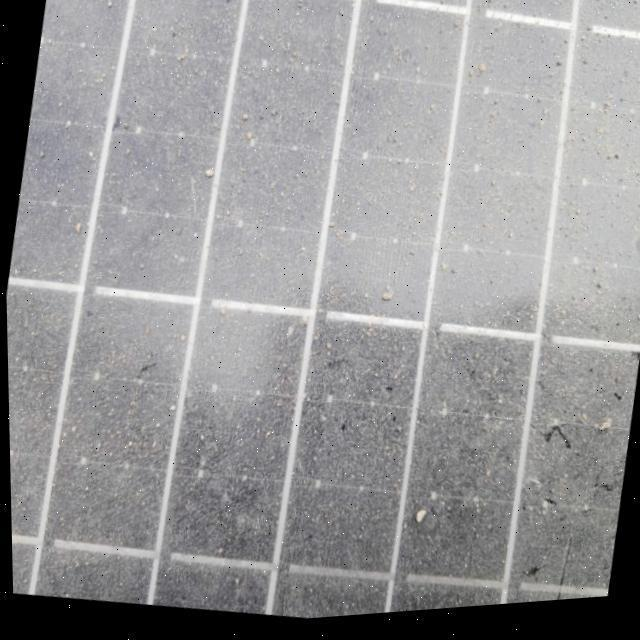Surface Contaminant: (5, 0, 640, 623)
